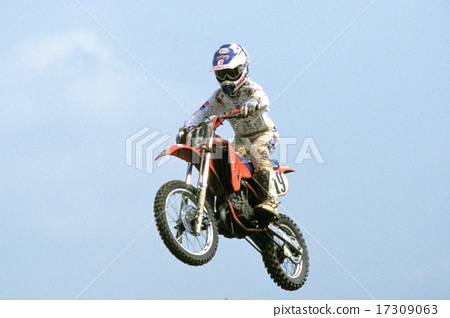helmet: (213, 39, 251, 98)
